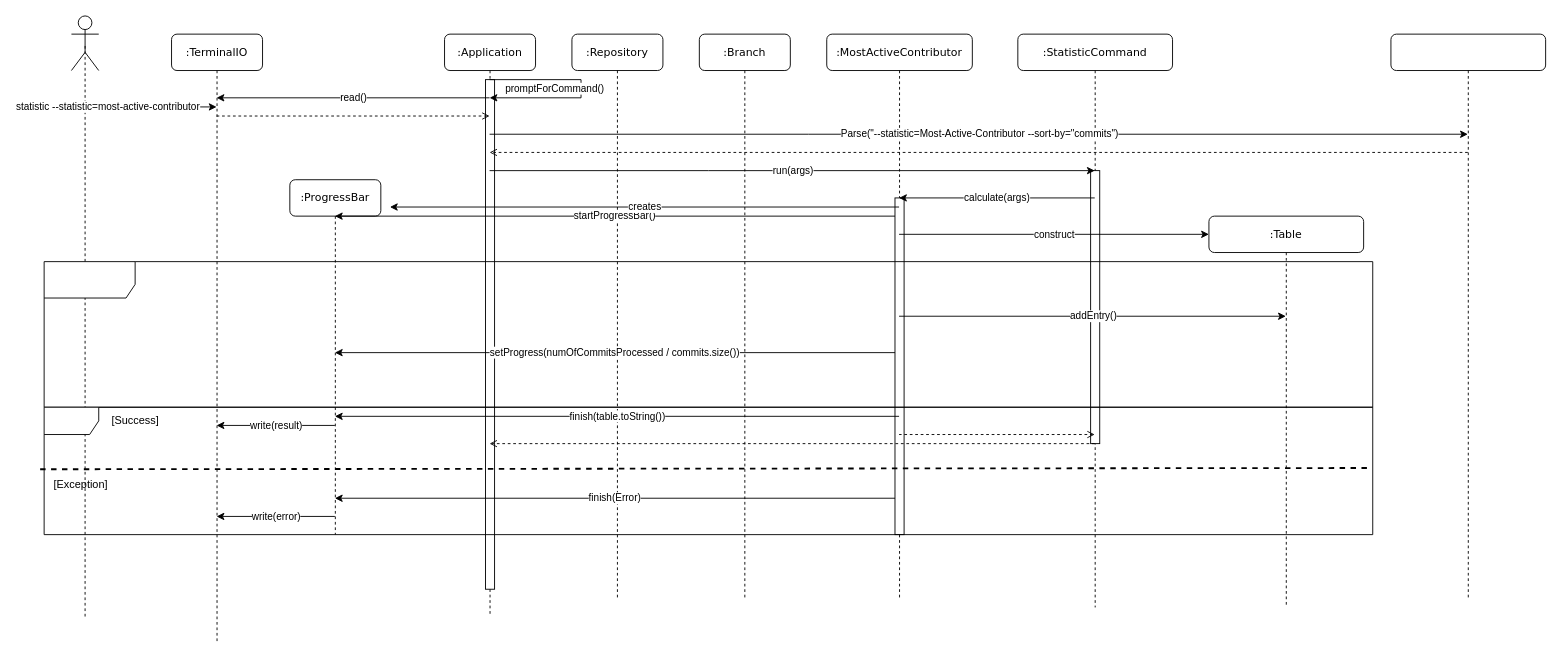
Some shapes in this 1562 by 660 pixel diagram are drawn without their labels. Each missing label, with the box of its shape:
:ArgumentParser: (1390, 33, 1546, 598)
Actor: (71, 15, 99, 71)
Alt: (43, 406, 1373, 535)
loop(0,nCommits): (43, 261, 1373, 407)
